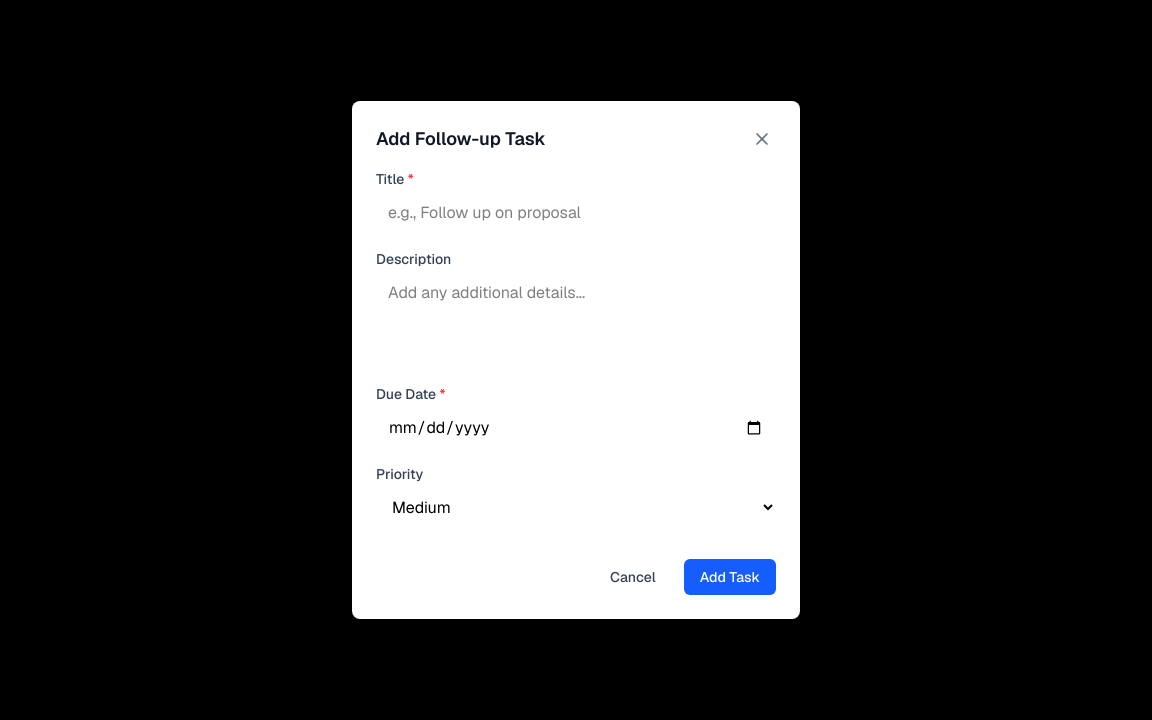
Test: AddTaskModal › should validate required fields
Click the button "Add Task".
click(730, 577)  # box [684, 559, 776, 595]
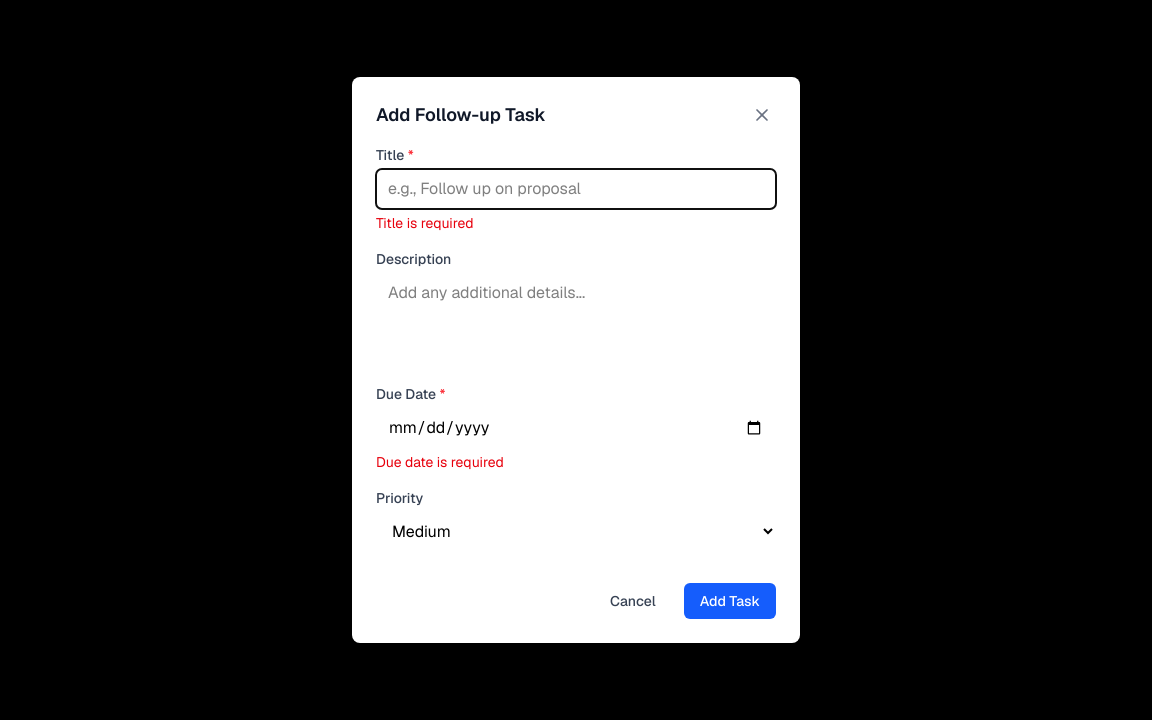
Result: the text "Title is required" is shown at [376, 214, 474, 232]
Result: the text "Due date is required" is shown at [376, 453, 504, 471]
